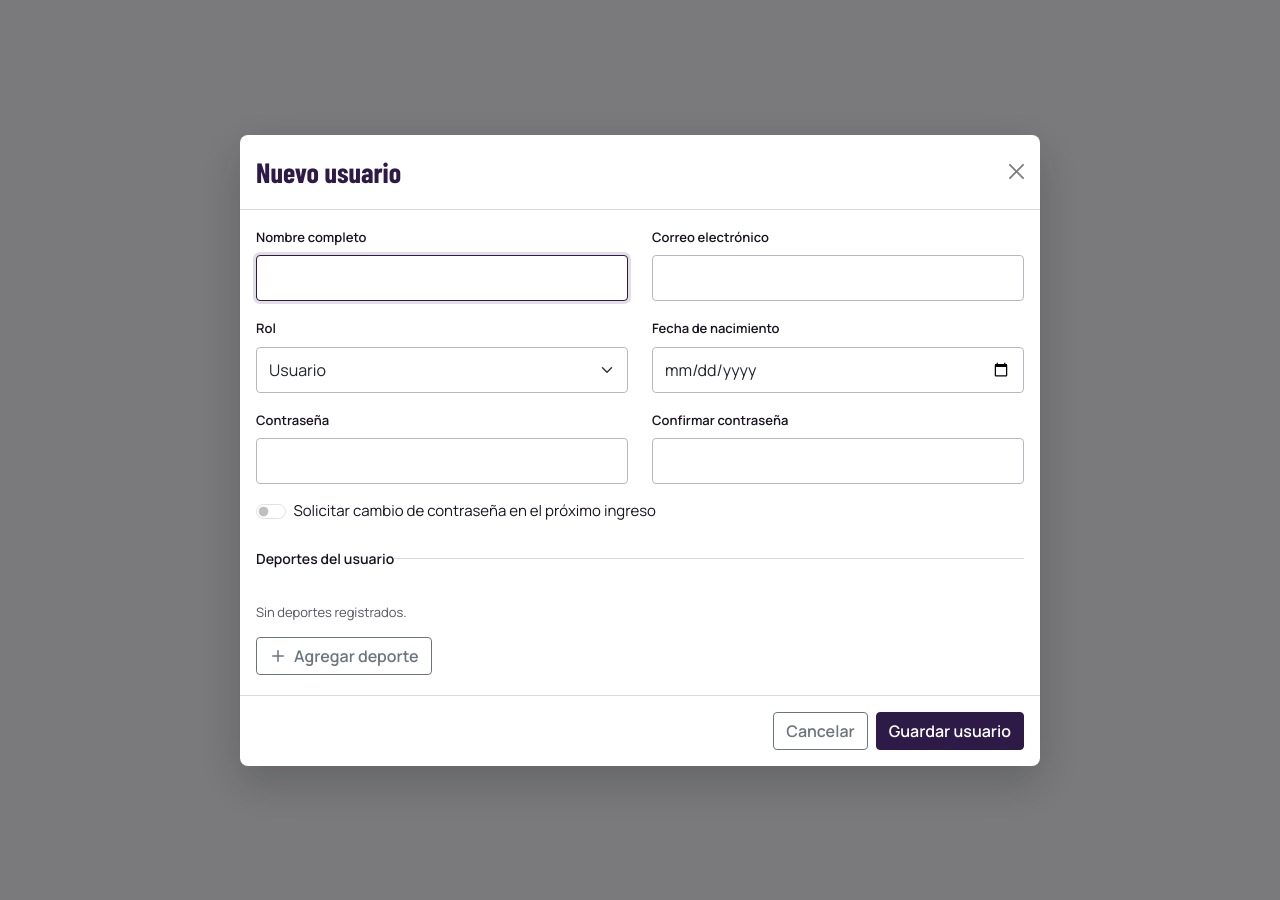
UserFormModal › shows inline create errors instead of submitting an invalid user
The image size is (1280, 900).
Click the button "Guardar usuario".
click(950, 730)  # box [876, 712, 1024, 750]
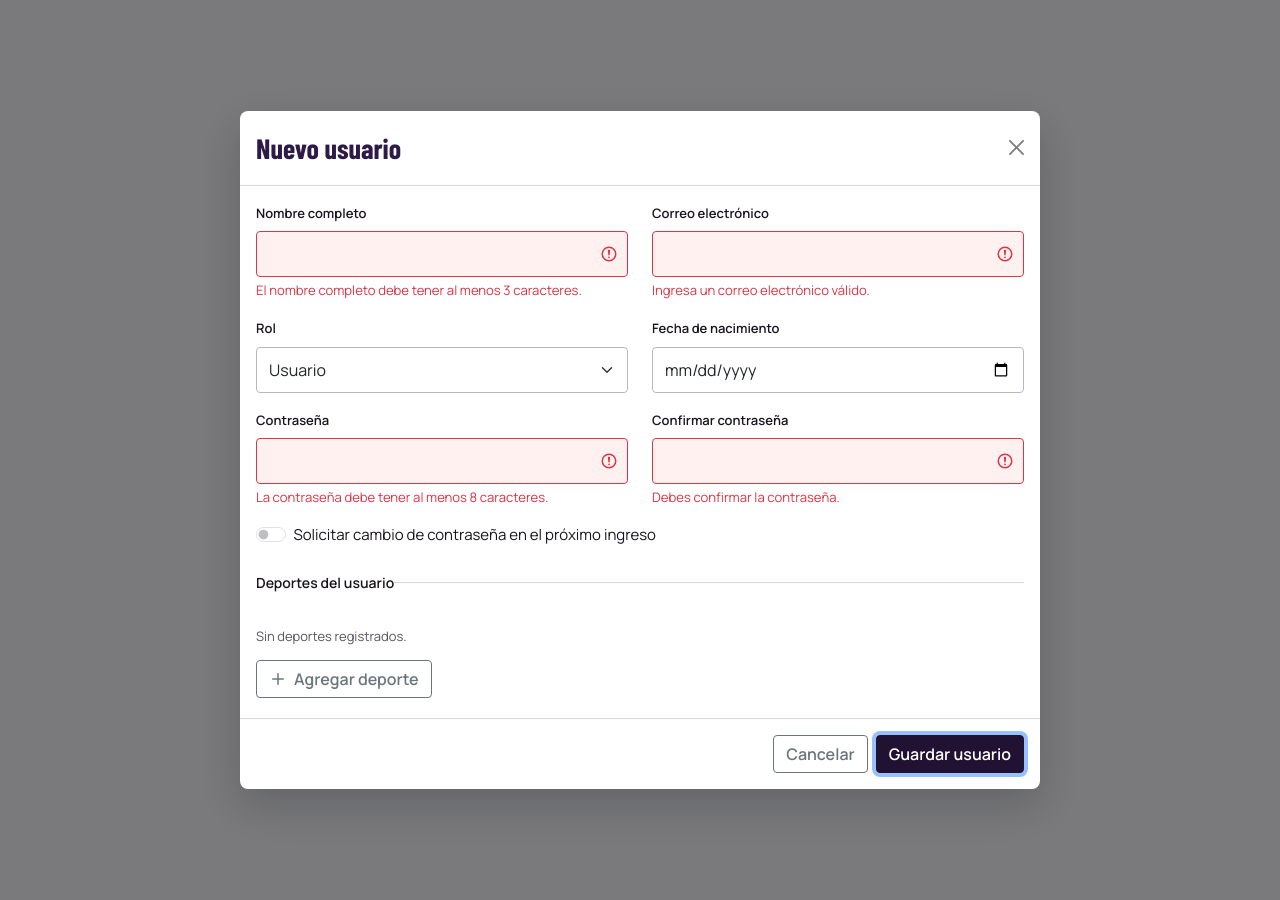
Now the text "El nombre completo debe tener al menos 3 caracteres." is shown, box [256, 281, 628, 301]
Now the text "Ingresa un correo electrónico válido." is shown, box [652, 281, 870, 299]
Now the text "La contraseña debe tener al menos 8 caracteres." is shown, box [256, 488, 548, 506]
